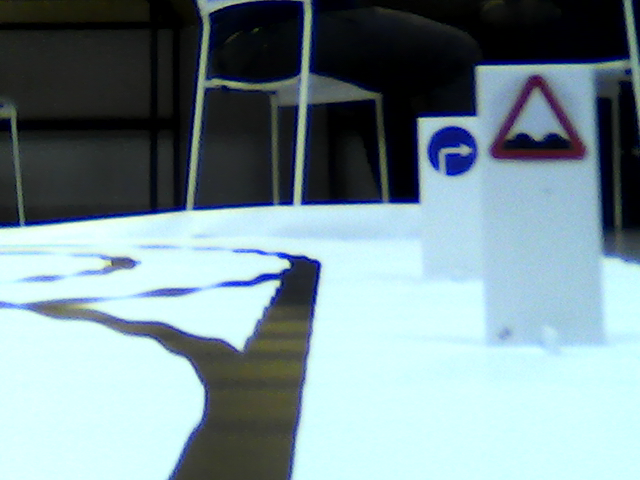Nerov: (487, 71, 586, 165)
Right: (428, 123, 479, 176)
